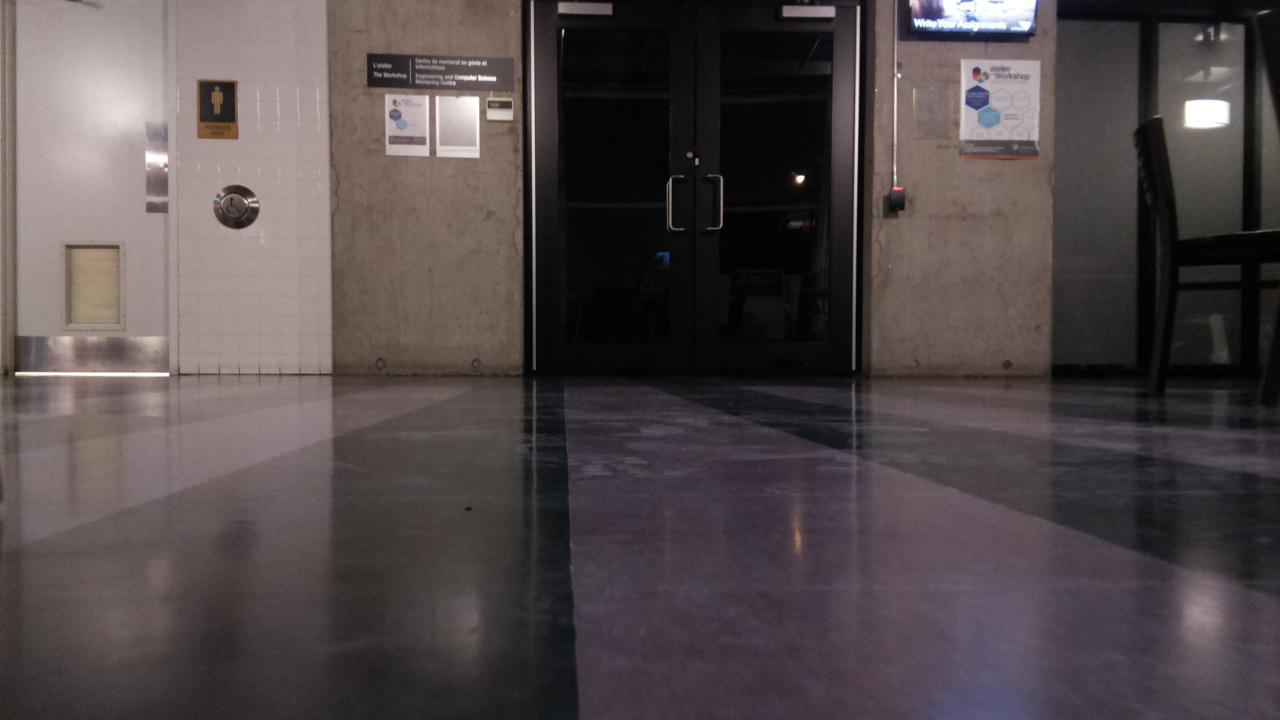door: (535, 1, 855, 371), (15, 1, 168, 371)
sign: (197, 79, 237, 137), (486, 97, 512, 119)
